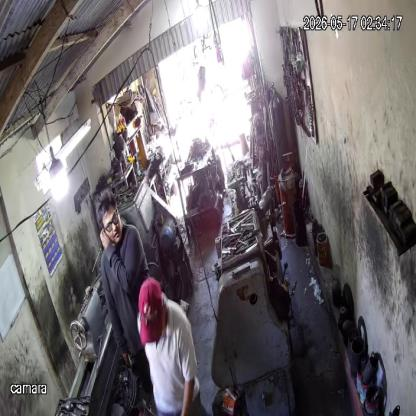lentes: (102, 208, 120, 230)
